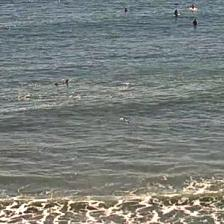surfer: (55, 79, 68, 86), (190, 4, 197, 10), (192, 19, 198, 26), (173, 8, 178, 16), (124, 8, 129, 12)
